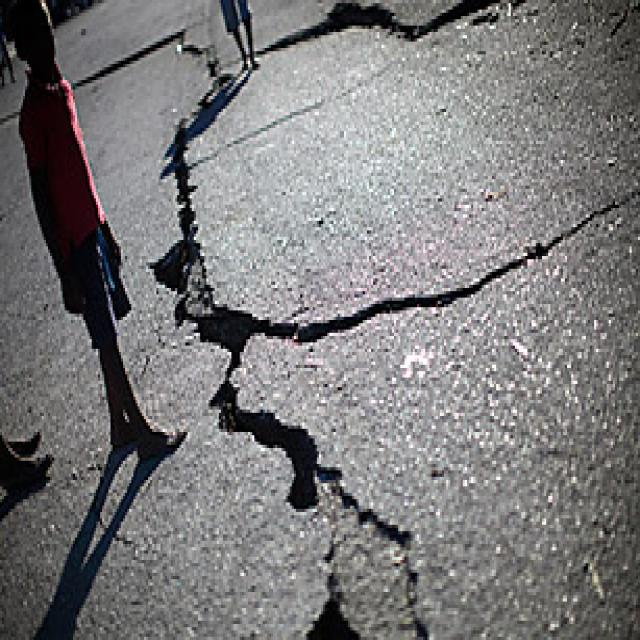Pothole: (103, 87, 623, 640)
